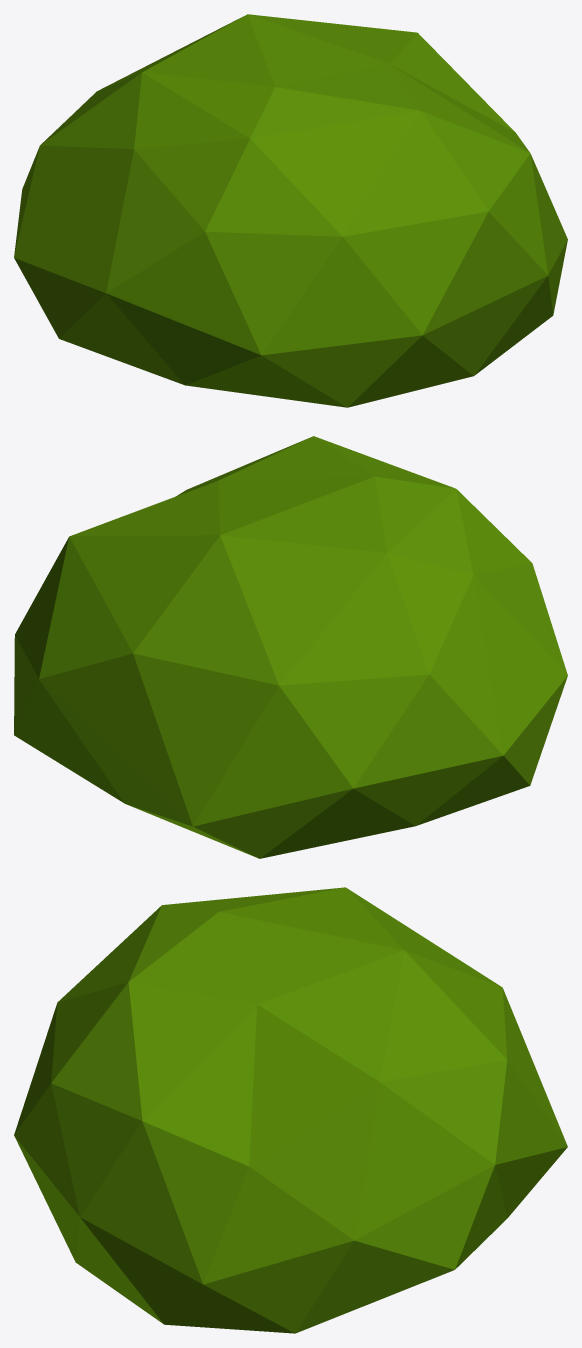
Rendered from plant_bush_play_a.glb.
3 renders of one model, top to bottom at view 1: azimuth 30°, elevation 25°; view 2: azimuth 150°, elevation 25°; view 3: azimuth 270°, elevation 25°, orthographic. The views are drawn at different scales.
Parts seen in each view (by area): view 1: bush; view 2: bush; view 3: bush.
Boxes of the visible parts, x1=… form: bush: x1=14, y1=14, x2=567, y2=407; bush: x1=14, y1=436, x2=567, y2=858; bush: x1=14, y1=887, x2=567, y2=1333.
Size of the model in its own units: 2.33 by 1.34 by 2.23.
